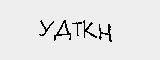Д: (54, 17, 73, 41)
К: (82, 18, 95, 37)
Н: (97, 20, 111, 43)
Т: (73, 17, 82, 36)
У: (35, 17, 54, 37)
